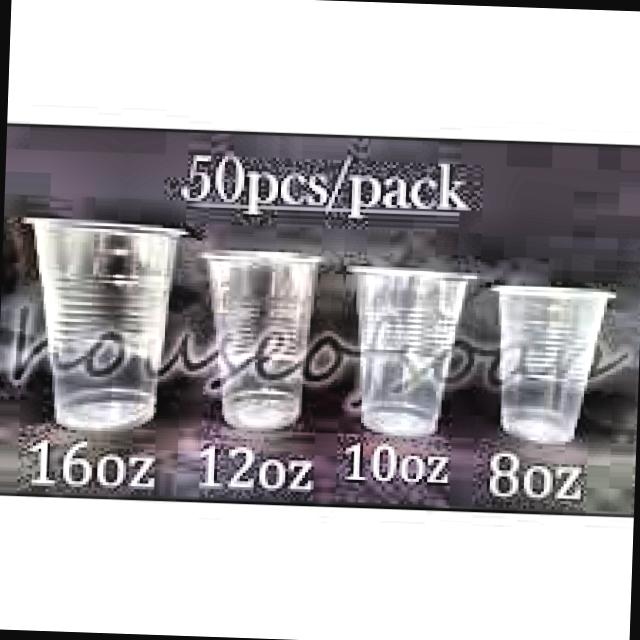plastic cup: (15, 212, 203, 439), (344, 258, 478, 436), (200, 237, 322, 430), (486, 280, 614, 442)
